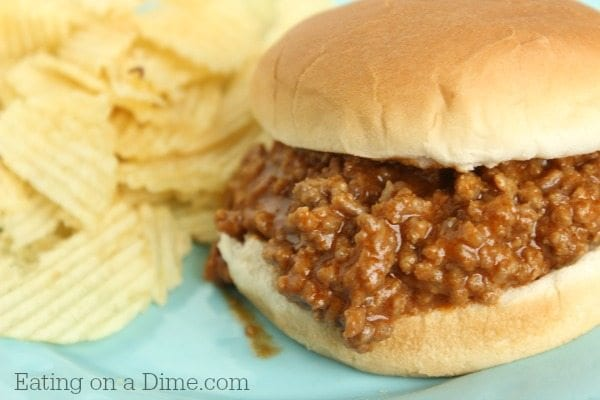hamburger_buns: (239, 1, 600, 167), (207, 230, 600, 382)
